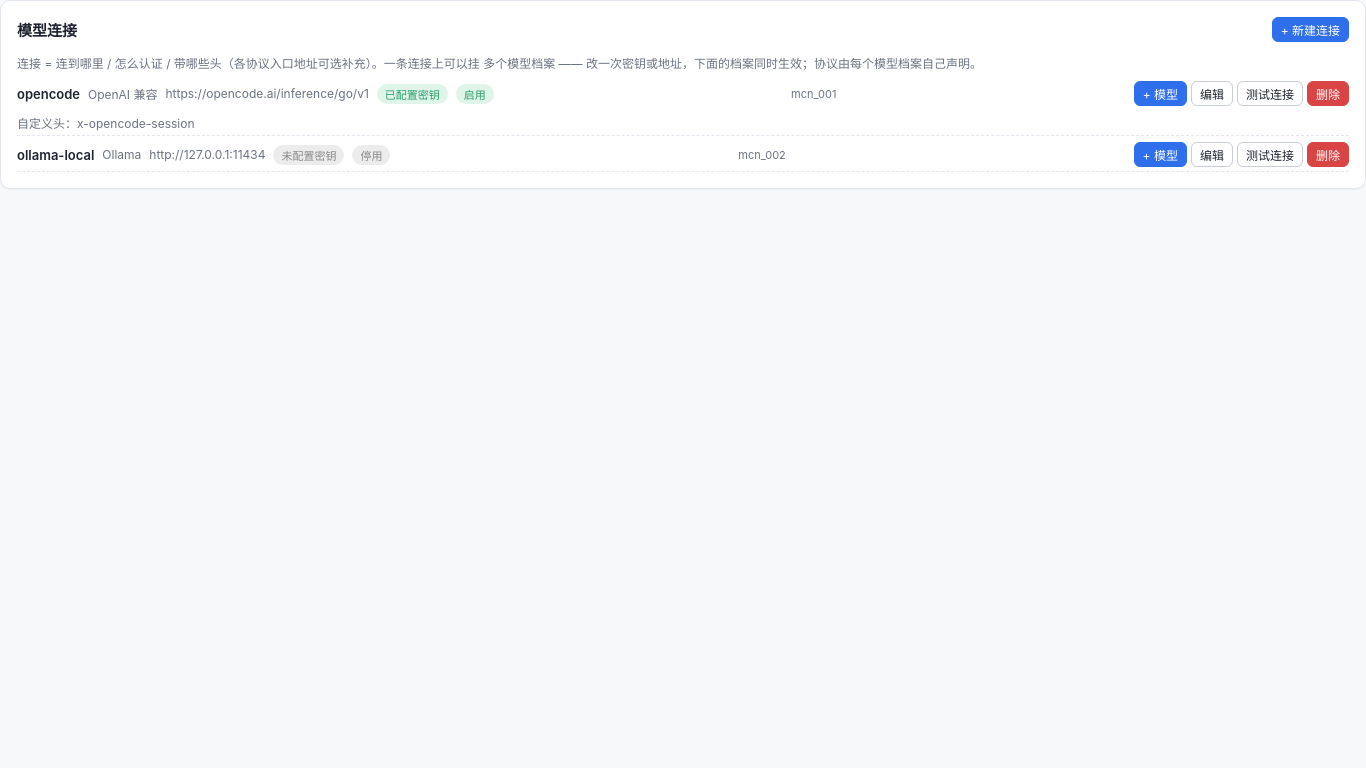
Scenario: ConnectionsPanel · 模型连接 › 「+ 模型」：模型名为空时拦下，不发请求
Click the button with test id "connection-add-model-mcn_001".
click(1160, 94)  # box x1=1134 y1=81 x2=1187 y2=106
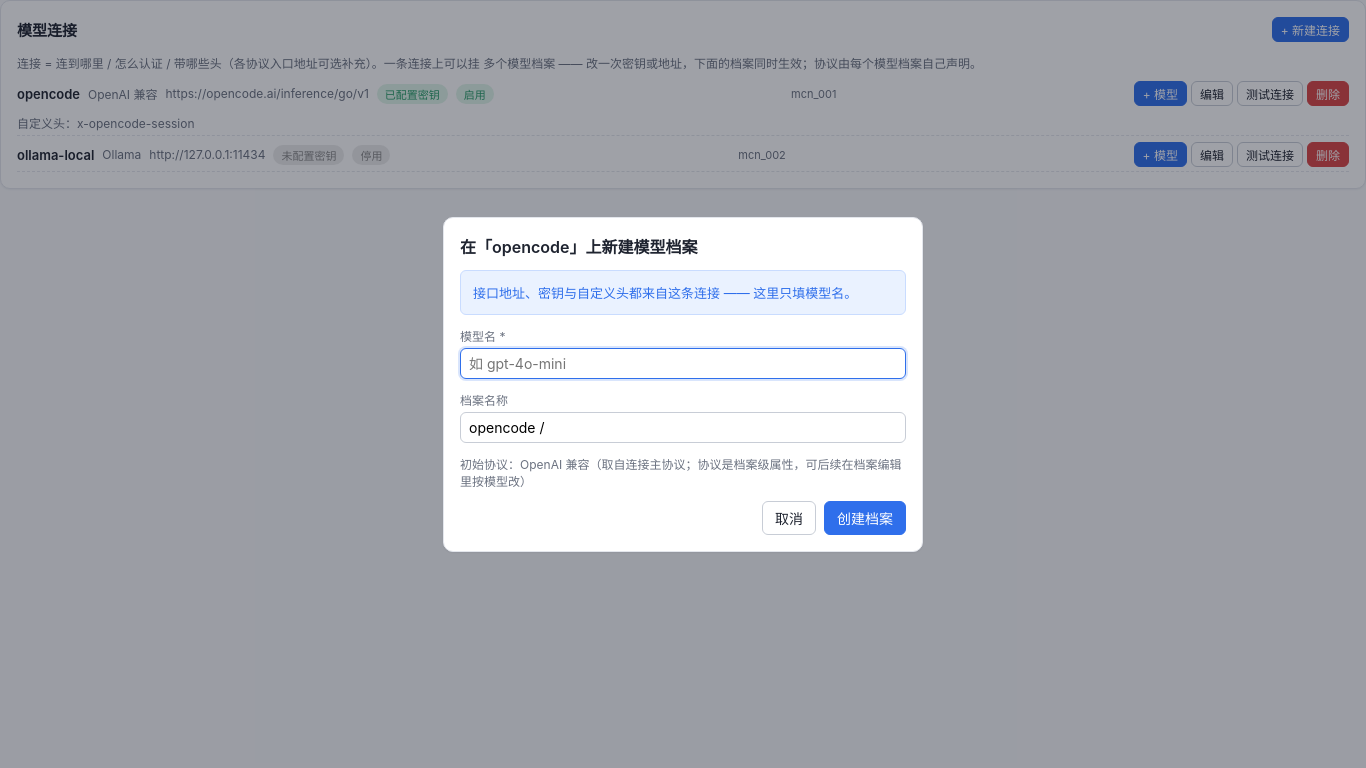
Expected: the button with test id "add-model-save" is shown
Click the button with test id "add-model-save".
click(865, 518)  # box x1=824 y1=500 x2=906 y2=534
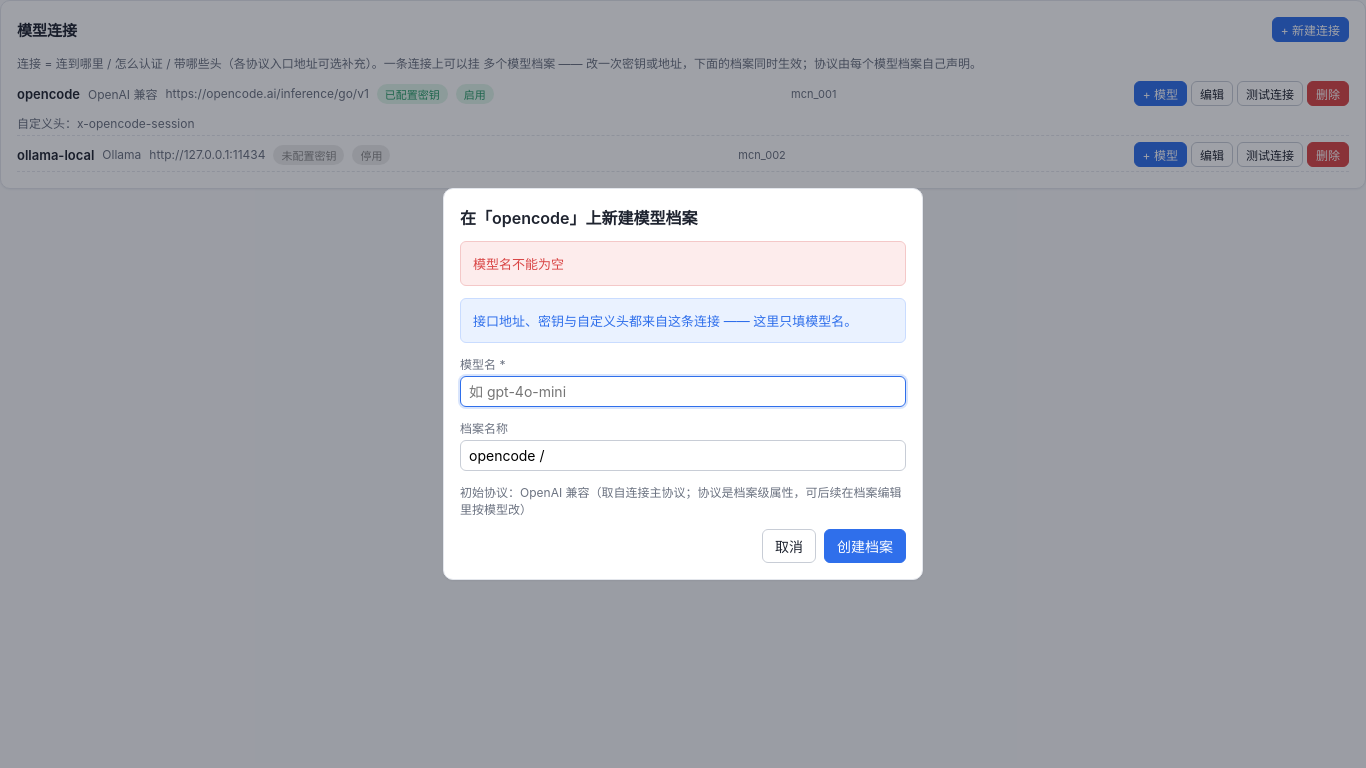
Expected: the dialog with test id "connection-add-model-modal" shows "模型名不能为空", x1=473 y1=256 x2=564 y2=272
